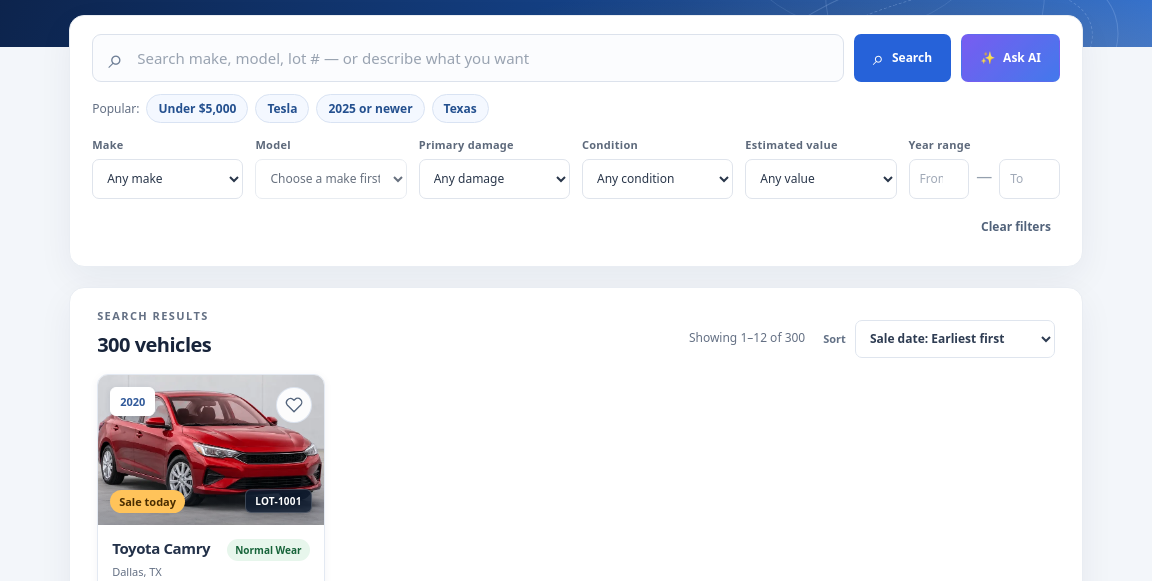
search state regressions › offers a reset button when nothing matches
The width and height of the screenshot is (1152, 581).
expect the heading "300 vehicles" is shown: met, box [97,331,211,358]
Type "nomatch" into the search field named "search by vehicle" at [482, 58], box [135,47,828,69]
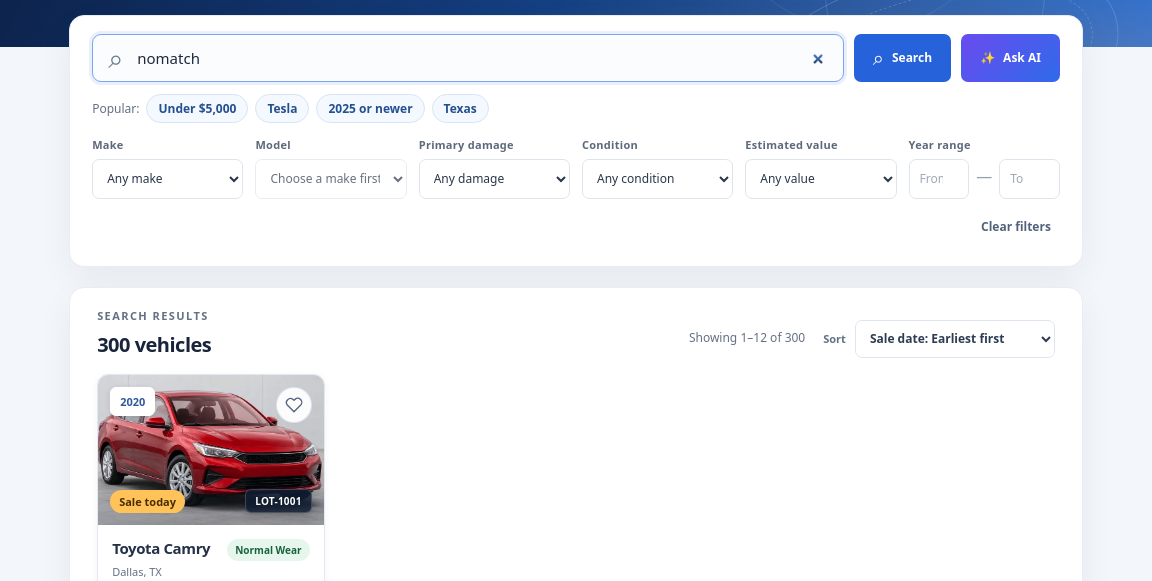
Click the button with aria-label "Search vehicles" at [902, 58], box [854,34,951,82]
(page scrolled)
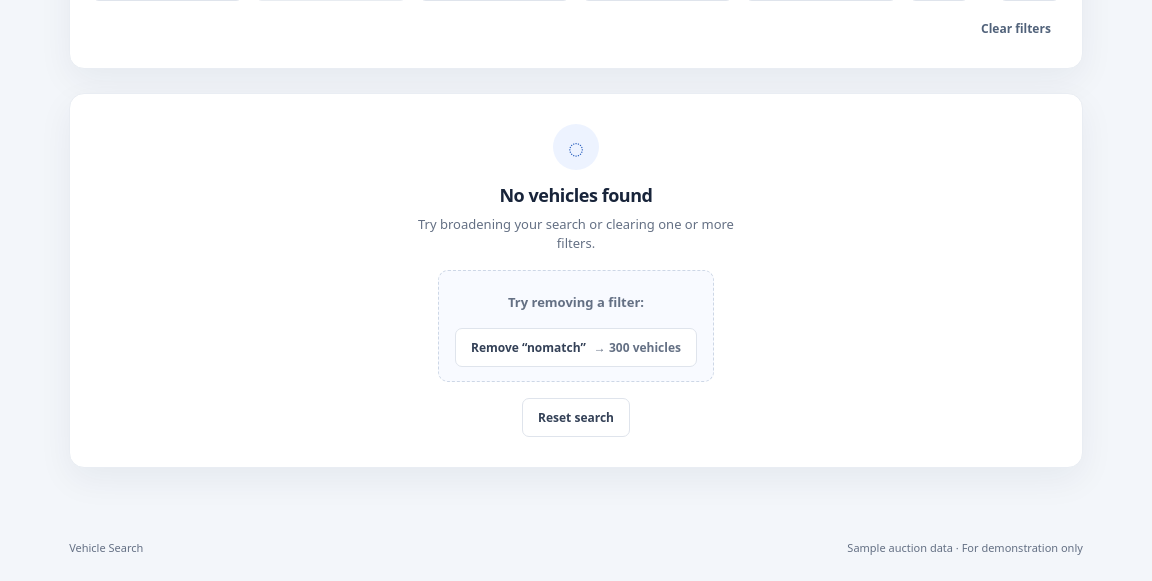
expect the heading "No vehicles found" is shown: met, box [499,183,653,207]
Click the button "Reset search" at [576, 418], box [522,398,630,437]
(page scrolled)
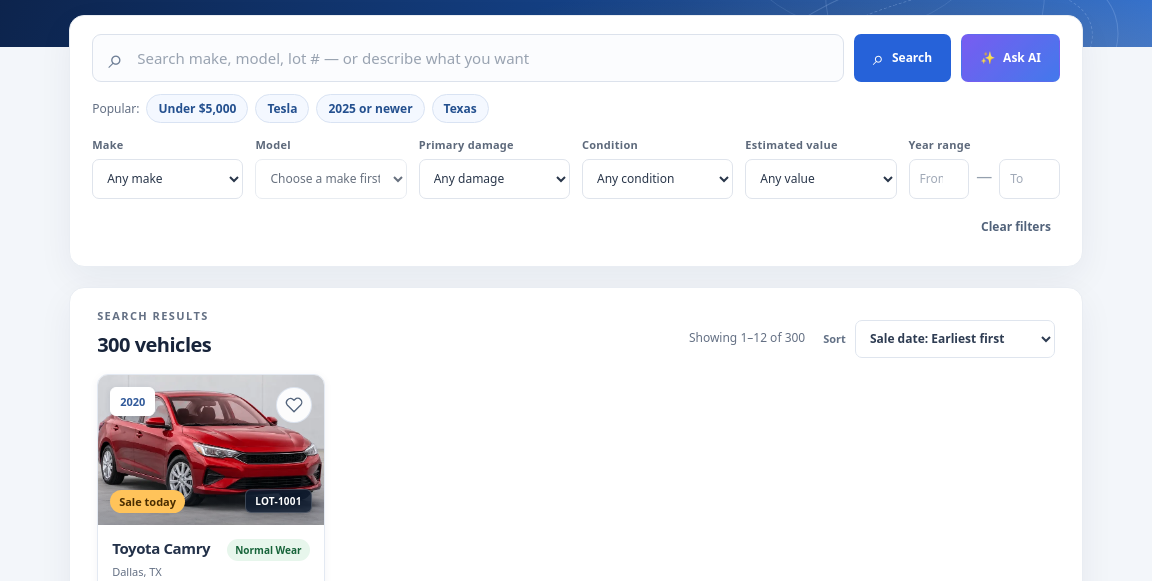
expect the heading "300 vehicles" is shown: met, box [97,331,211,358]
expect the search field named "search by vehicle" is empty: met, box [135,47,828,69]
